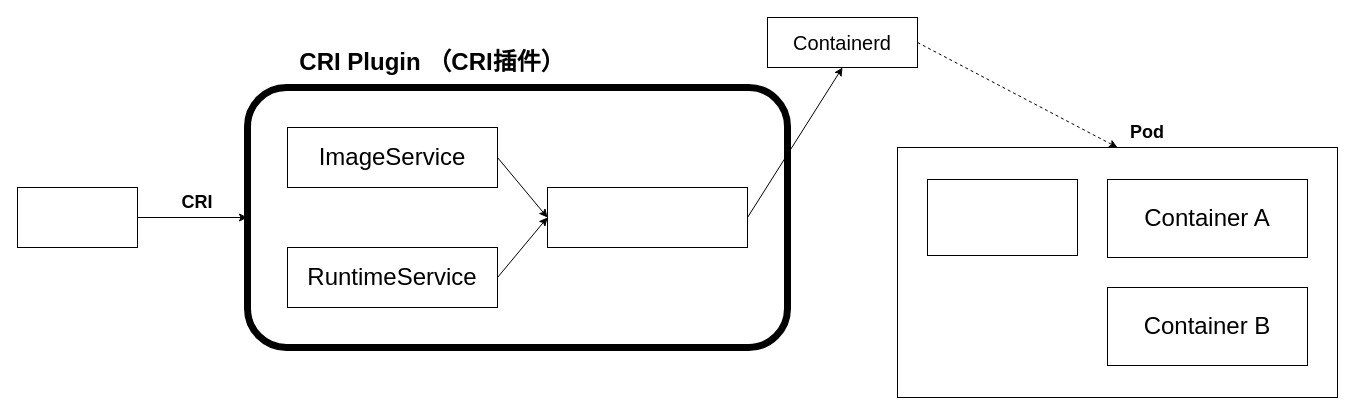
The diagram is 1355 pixels wide and 415 high, and some of its shapes have lost their labels. Here are the shapes that lost their labels. From the top down, the centre of each, then its label:
[77,217]: kubelet
[647,217]: Containerd客户端
[1002,217]: Sandbox container
